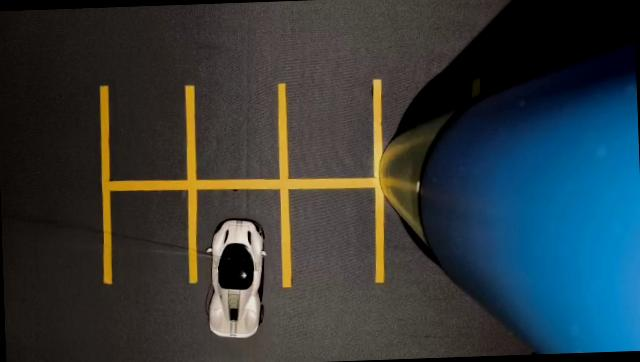toy_car: (190, 209, 291, 355)
